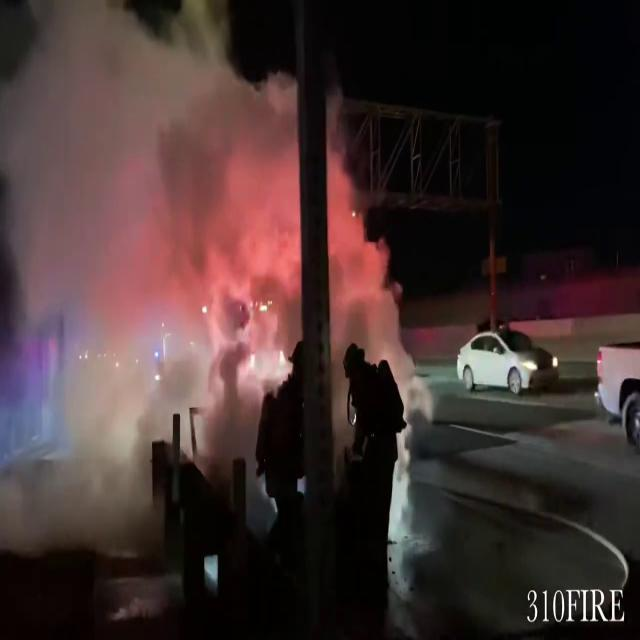Smoke: (0, 1, 290, 514)
